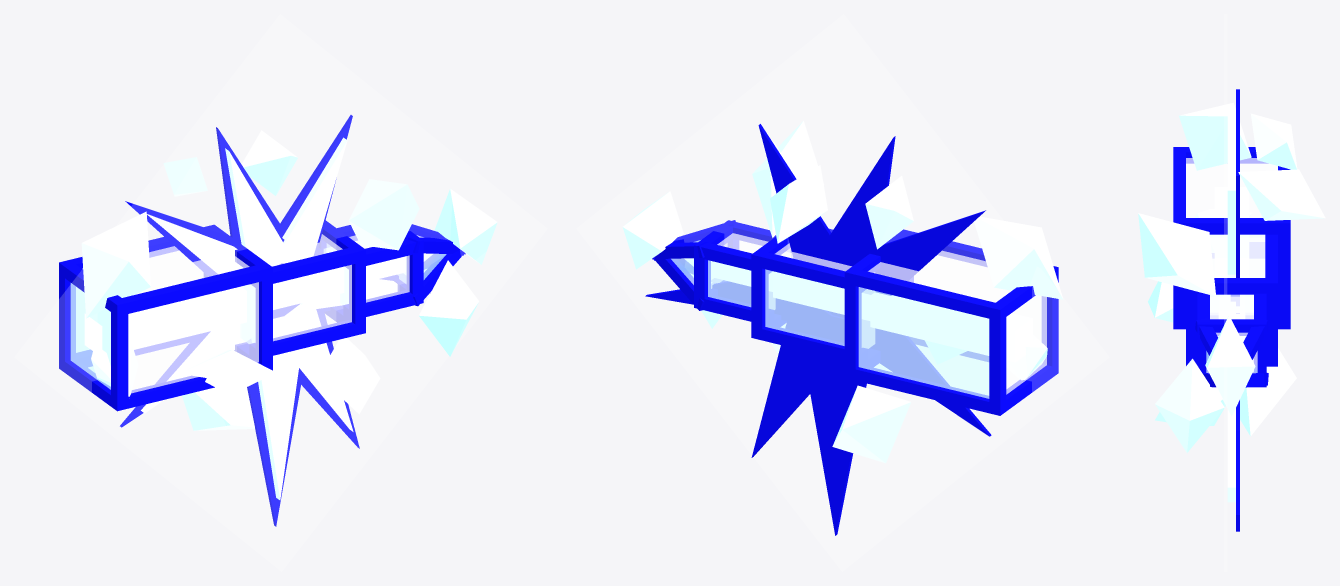
The model's file is fx_spellpierce.glb.
The picture shows the model from 3 angles, left to right: view 1: azimuth 30°, elevation 25°; view 2: azimuth 150°, elevation 25°; view 3: azimuth 270°, elevation 25°; orthographic projection.
Parts seen in each view (by area): view 1: spellpierce_FX_SpellPierce_Puncture_Glow3, spellpierce_FX_SpellPierce_Shards_Glow1, spellpierce_FX_SpellPierce_Lance_Glow2, spellpierce_FX_SpellPierce_Lance_Glow3, spellpierce_FX_SpellPierce_Puncture_Glow2, spellpierce_FX_SpellPierce_Puncture_Glow1, spellpierce_FX_SpellPierce_Lance_Glow1; view 2: spellpierce_FX_SpellPierce_Puncture_Glow3, spellpierce_FX_SpellPierce_Lance_Glow3, spellpierce_FX_SpellPierce_Lance_Glow2, spellpierce_FX_SpellPierce_Puncture_Glow1, spellpierce_FX_SpellPierce_Shards_Glow1, spellpierce_FX_SpellPierce_Lance_Glow1; view 3: spellpierce_FX_SpellPierce_Shards_Glow1, spellpierce_FX_SpellPierce_Lance_Glow2, spellpierce_FX_SpellPierce_Lance_Glow3, spellpierce_FX_SpellPierce_Puncture_Glow2, spellpierce_FX_SpellPierce_Puncture_Glow3, spellpierce_FX_SpellPierce_Lance_Glow1, spellpierce_FX_SpellPierce_Puncture_Glow1.
Part boxes in pixels (bbox=[...]): spellpierce_FX_SpellPierce_Puncture_Glow3: bbox=[15, 14, 546, 571]; spellpierce_FX_SpellPierce_Shards_Glow1: bbox=[81, 130, 497, 430]; spellpierce_FX_SpellPierce_Lance_Glow2: bbox=[59, 220, 465, 411]; spellpierce_FX_SpellPierce_Lance_Glow3: bbox=[70, 234, 446, 393]; spellpierce_FX_SpellPierce_Puncture_Glow2: bbox=[141, 137, 431, 500]; spellpierce_FX_SpellPierce_Puncture_Glow1: bbox=[120, 115, 430, 526]; spellpierce_FX_SpellPierce_Lance_Glow1: bbox=[84, 253, 432, 350]; spellpierce_FX_SpellPierce_Puncture_Glow3: bbox=[577, 14, 1108, 571]; spellpierce_FX_SpellPierce_Lance_Glow3: bbox=[671, 233, 1046, 398]; spellpierce_FX_SpellPierce_Lance_Glow2: bbox=[652, 220, 1058, 415]; spellpierce_FX_SpellPierce_Puncture_Glow1: bbox=[645, 124, 991, 535]; spellpierce_FX_SpellPierce_Shards_Glow1: bbox=[622, 121, 1063, 463]; spellpierce_FX_SpellPierce_Lance_Glow1: bbox=[684, 258, 1032, 362]; spellpierce_FX_SpellPierce_Shards_Glow1: bbox=[1138, 102, 1325, 452]; spellpierce_FX_SpellPierce_Lance_Glow2: bbox=[1173, 147, 1290, 387]; spellpierce_FX_SpellPierce_Lance_Glow3: bbox=[1186, 158, 1277, 373]; spellpierce_FX_SpellPierce_Puncture_Glow2: bbox=[1227, 114, 1235, 502]; spellpierce_FX_SpellPierce_Puncture_Glow3: bbox=[1224, 14, 1226, 571]; spellpierce_FX_SpellPierce_Lance_Glow1: bbox=[1215, 187, 1248, 318]; spellpierce_FX_SpellPierce_Puncture_Glow1: bbox=[1231, 89, 1239, 531].
Size of the model in its own units: 2.94 by 2.94 by 0.8968.
